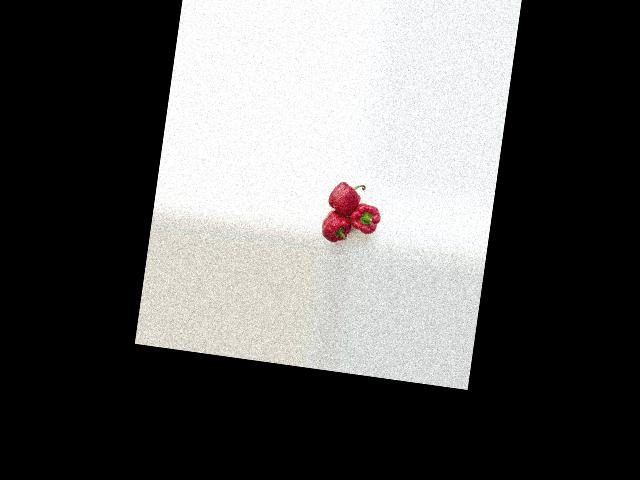bell_pepper: (325, 172, 368, 214)
